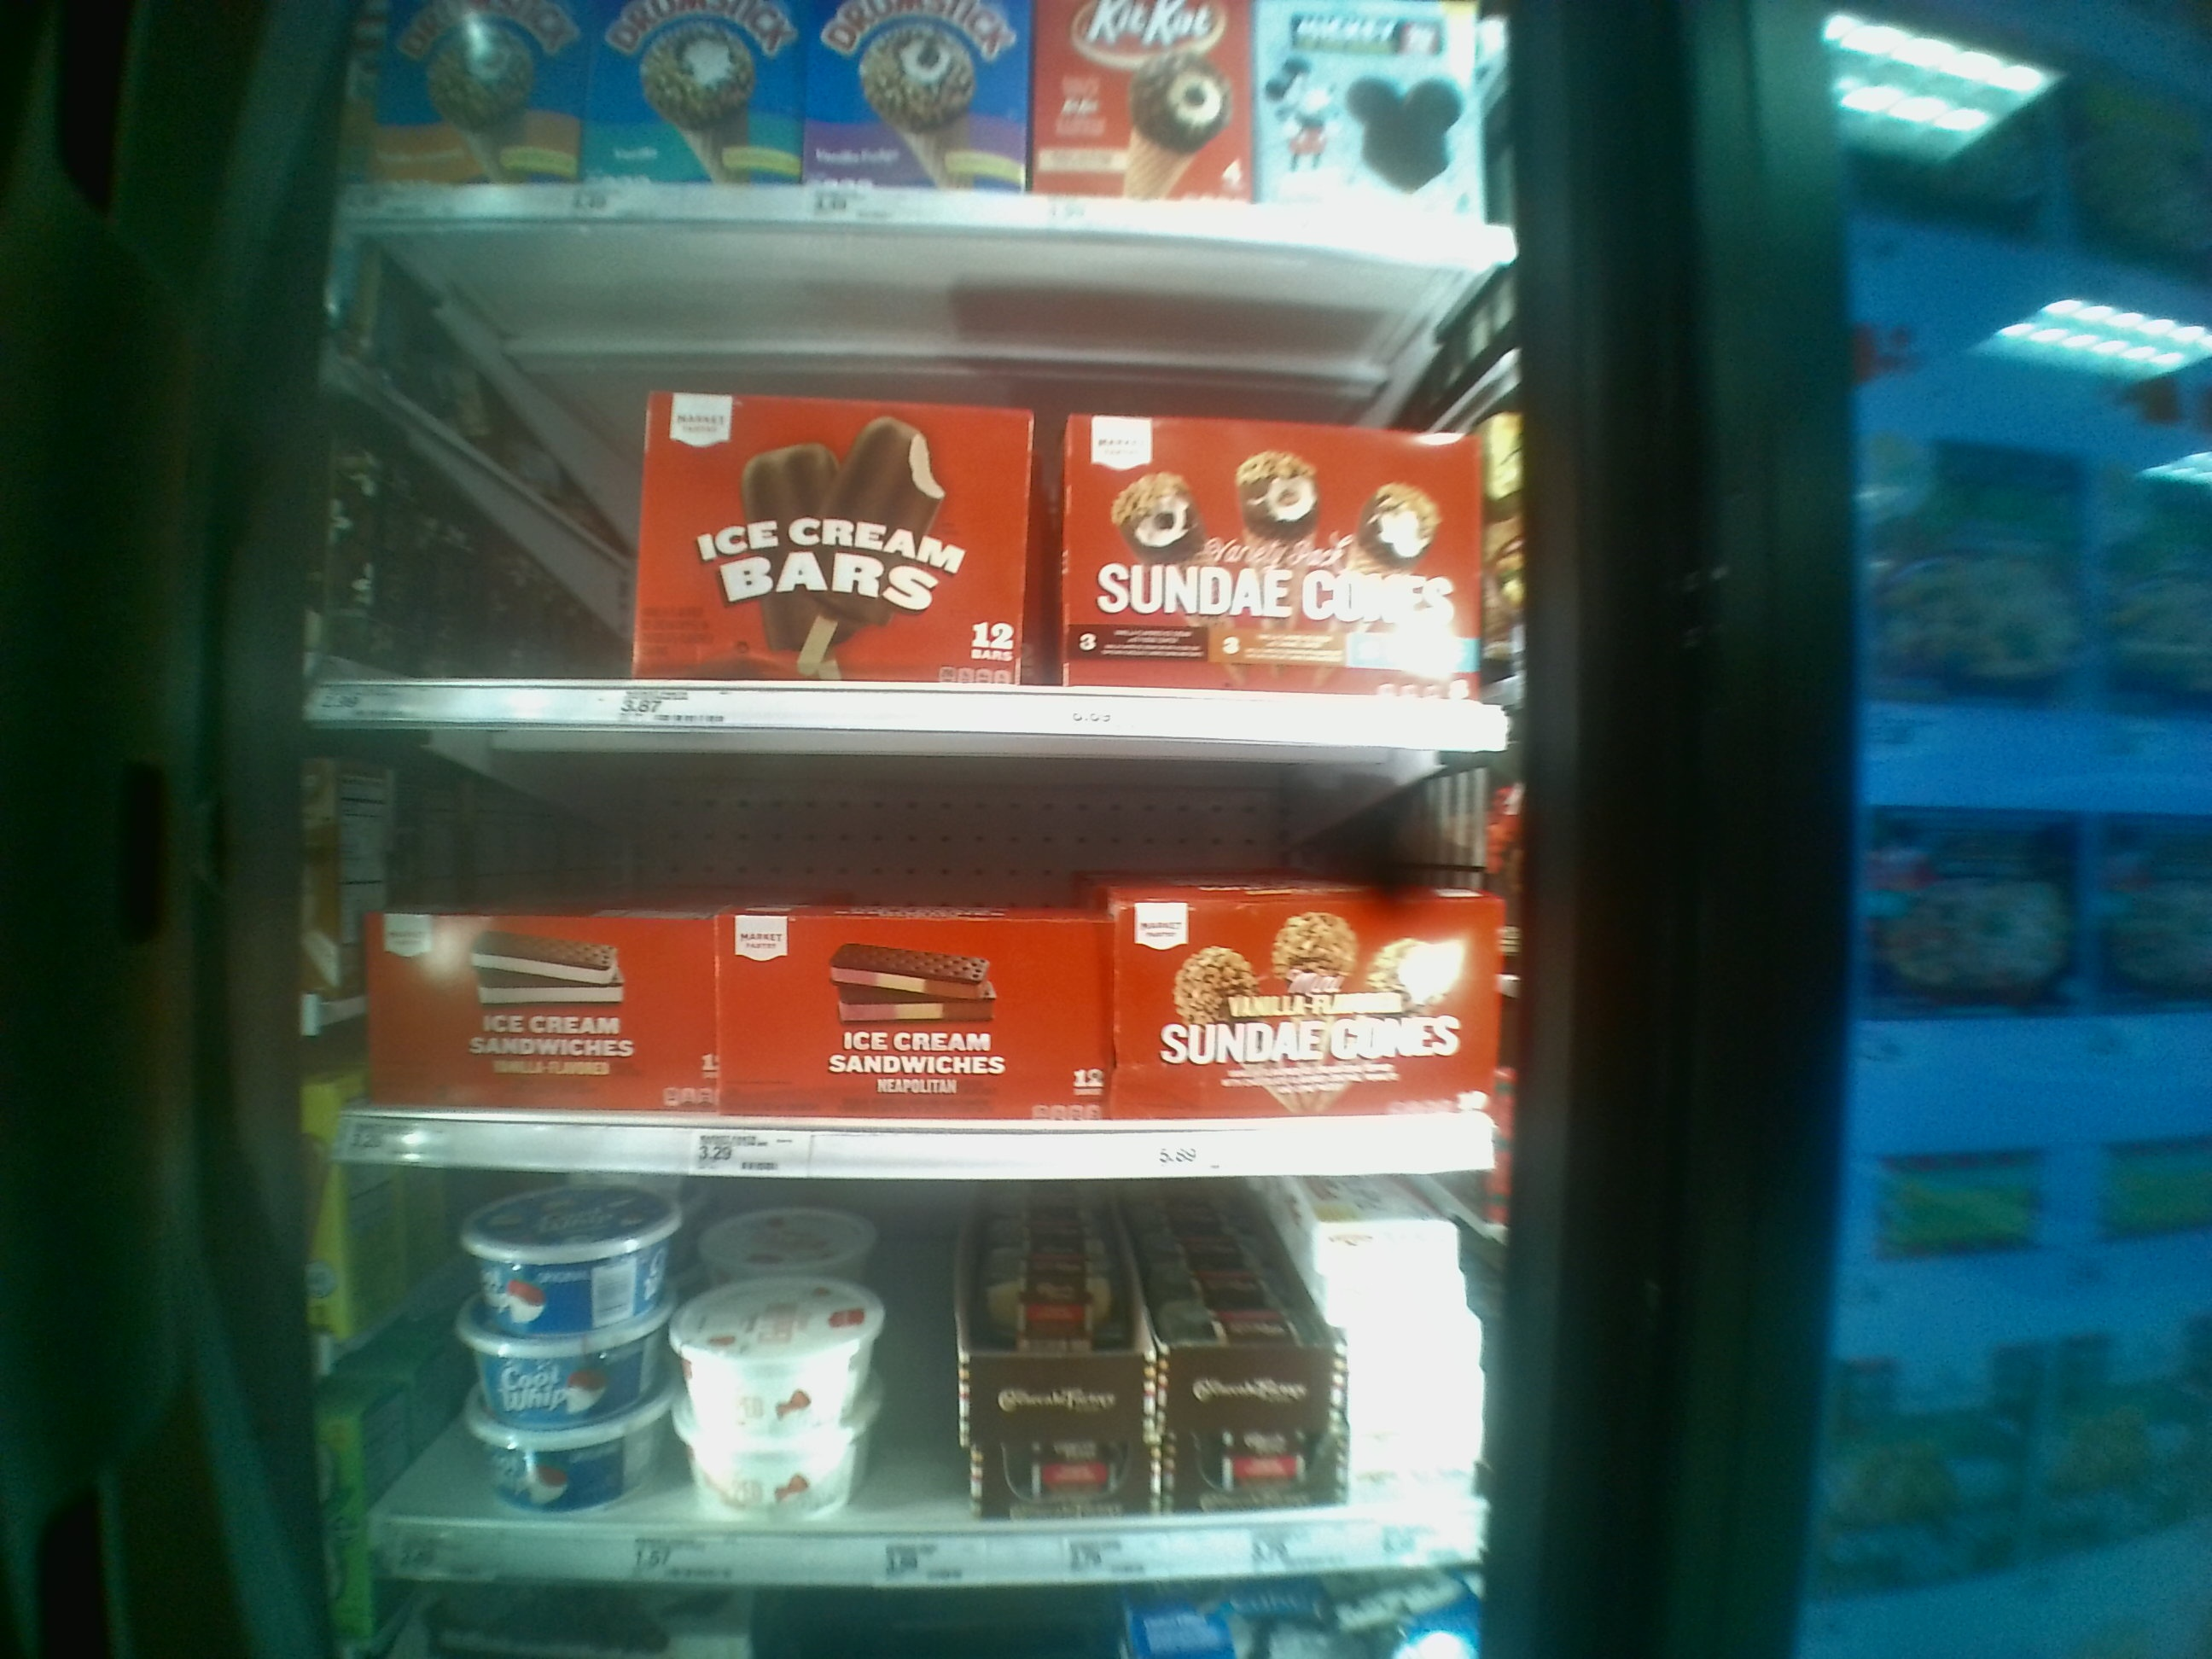shelf: (334, 220, 1514, 737), (334, 728, 1510, 1180), (329, 1175, 1493, 1575)
